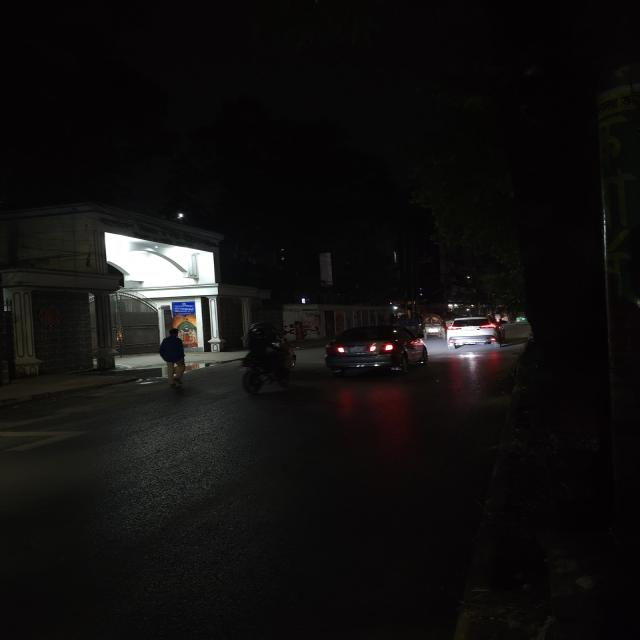car: (321, 323, 428, 378), (443, 315, 508, 350)
motorcycle: (228, 322, 303, 396)
pedestrian: (149, 328, 197, 393)
rickshaw: (421, 314, 445, 338)
